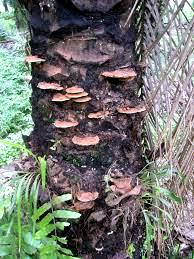Ganoderma - Fruit Body: (107, 175, 144, 207), (69, 189, 100, 213), (100, 67, 138, 83), (100, 68, 138, 83), (66, 85, 91, 103), (71, 134, 102, 148), (116, 104, 147, 117), (35, 80, 63, 94), (52, 118, 80, 131), (21, 53, 46, 65), (87, 110, 111, 120), (51, 93, 64, 104)
